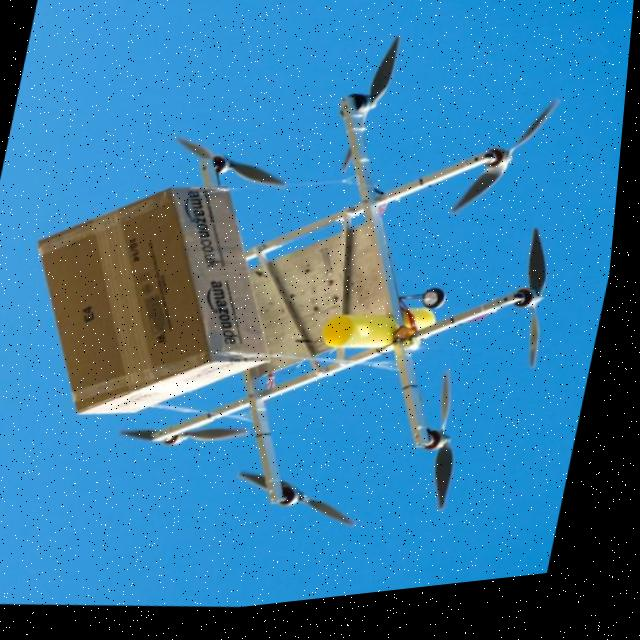drones: (0, 0, 615, 631)
